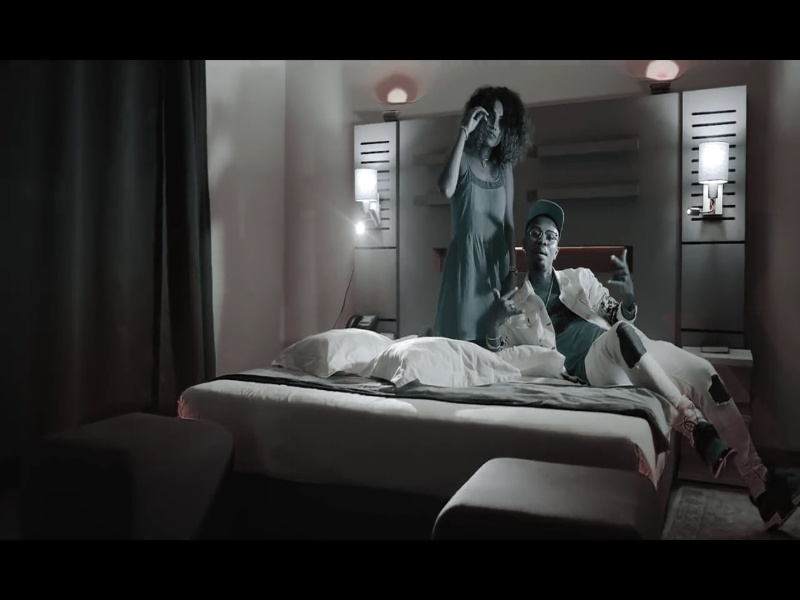TsisyArotava: (511, 196, 573, 283), (471, 84, 516, 162)
